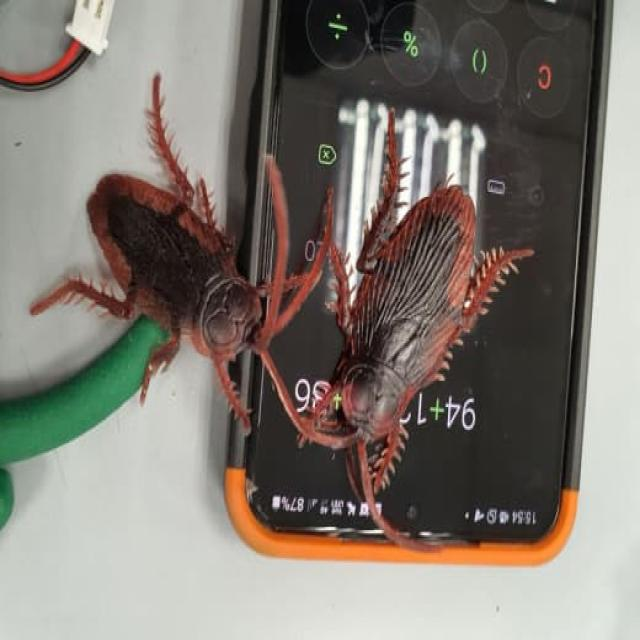Cockroach: (288, 106, 535, 550), (27, 68, 321, 436)
